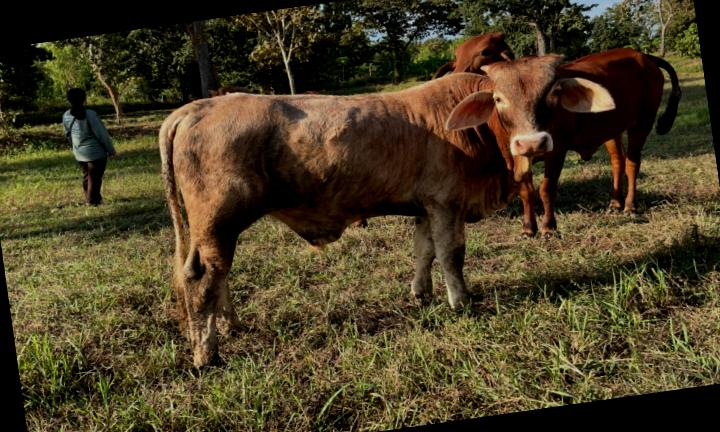Charolais: (159, 55, 615, 367)
